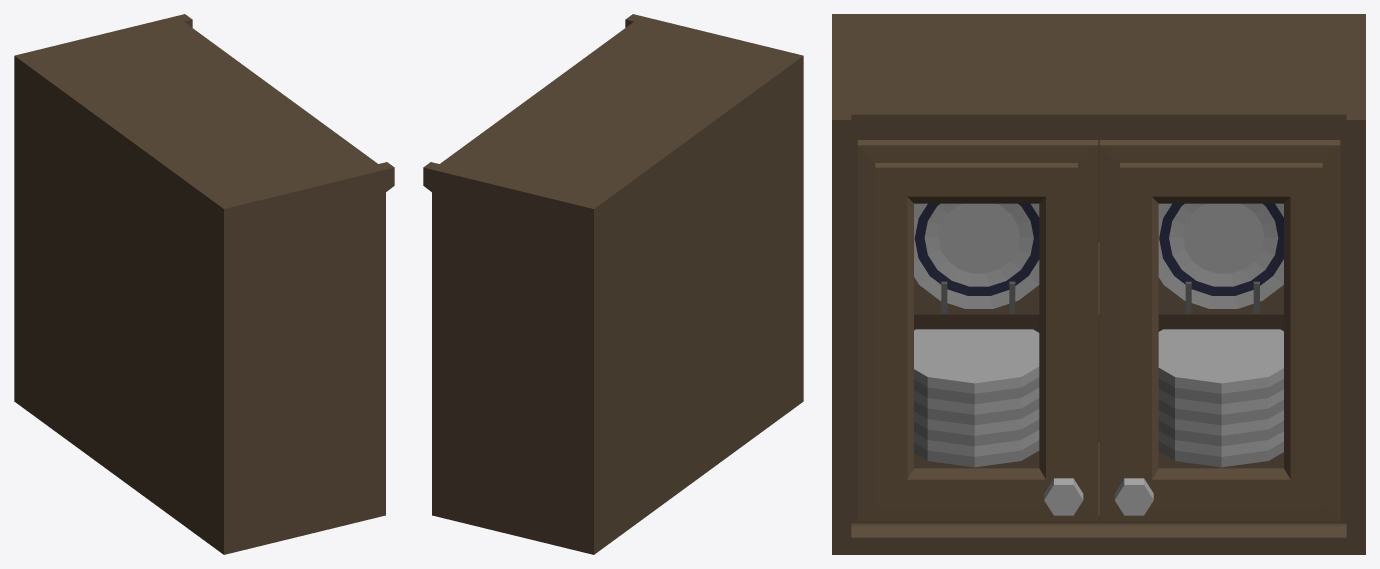
Rendered from SM_kitchenCabinet_008.glb.
The picture shows the model from 3 angles, left to right: view 1: azimuth 30°, elevation 25°; view 2: azimuth 150°, elevation 25°; view 3: azimuth 270°, elevation 25°; orthographic projection. The views are drawn at different scales.
Parts seen in each view (by area): view 1: SM_kitchenCabinet_008; view 2: SM_kitchenCabinet_008; view 3: SM_kitchenCabinet_008.
Part boxes in pixels (bbox=[...]): SM_kitchenCabinet_008: bbox=[14, 14, 394, 554]; SM_kitchenCabinet_008: bbox=[423, 14, 803, 554]; SM_kitchenCabinet_008: bbox=[832, 14, 1365, 554].
Size of the model in its own units: 0.4957 by 0.91 by 1.
2 materials, 1 textured.
